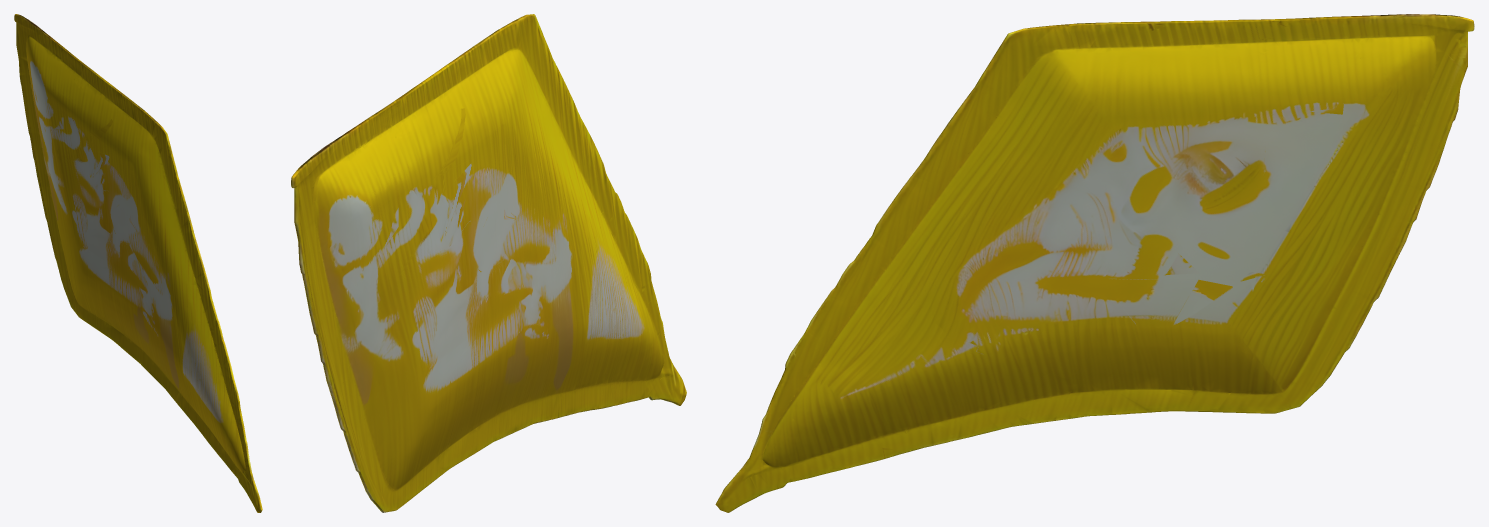
The model's file is base_basic_pbr.fbx.
3 views of the same model, side by side, from view 1: azimuth 30°, elevation 25°; view 2: azimuth 150°, elevation 25°; view 3: azimuth 270°, elevation 25° (orthographic). The views are drawn at different scales.
Visible parts, largest first — view 1: model; view 2: model; view 3: model.
Boxes of the visible parts, left/top/right/bottom form: model: left=14, top=14, right=262, bottom=512; model: left=291, top=14, right=686, bottom=512; model: left=715, top=14, right=1474, bottom=512.
Size of the model in its own units: 7.27 by 126 by 173.
1 material, 1 textured.
